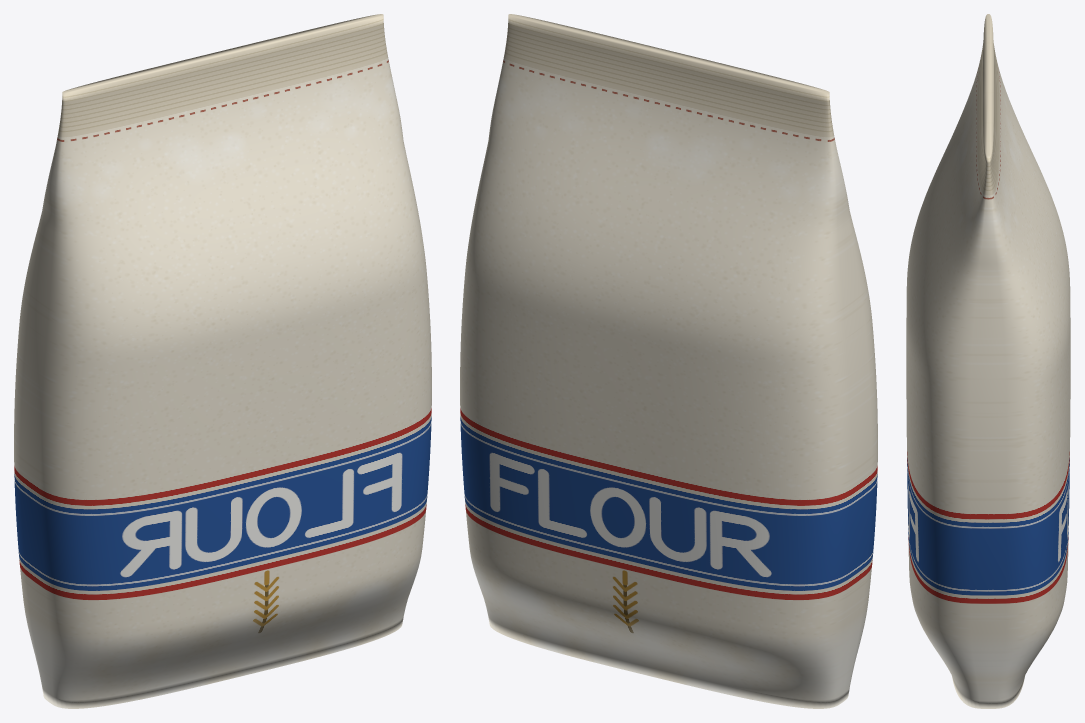
File: flour_bag.glb
3 renders of one model, left to right at view 1: azimuth 30°, elevation 25°; view 2: azimuth 150°, elevation 25°; view 3: azimuth 270°, elevation 25°, orthographic. The views are drawn at different scales.
Visible parts, largest first — view 1: flour_bag; view 2: flour_bag; view 3: flour_bag.
Part boxes in pixels (x1,y1,x2,y2): flour_bag: (14,14,431,708); flour_bag: (460,14,877,708); flour_bag: (906,14,1070,708).
Bounding box in the file's own units: 0.52 × 0.78 × 0.212.
1 material, 1 textured.
